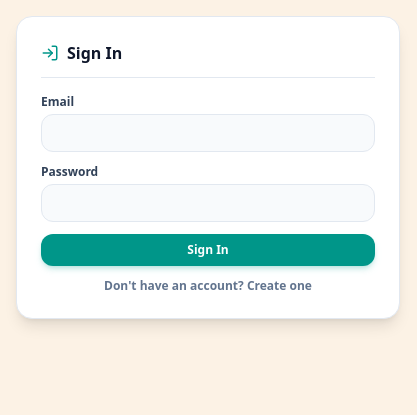
Test: LoginPage Component › switches between Sign In and Create Account modes
Step 1. Click the button "Don't have an account? Create one" → (208, 286), box [41,278,375,294]
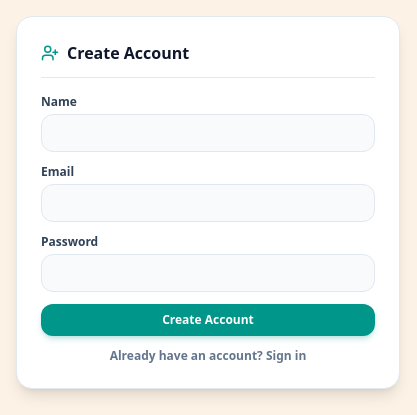
Expected: the field labelled "Name" is shown, [41,114,375,152]
Expected: the heading "Create Account" is shown, [41,42,189,64]
